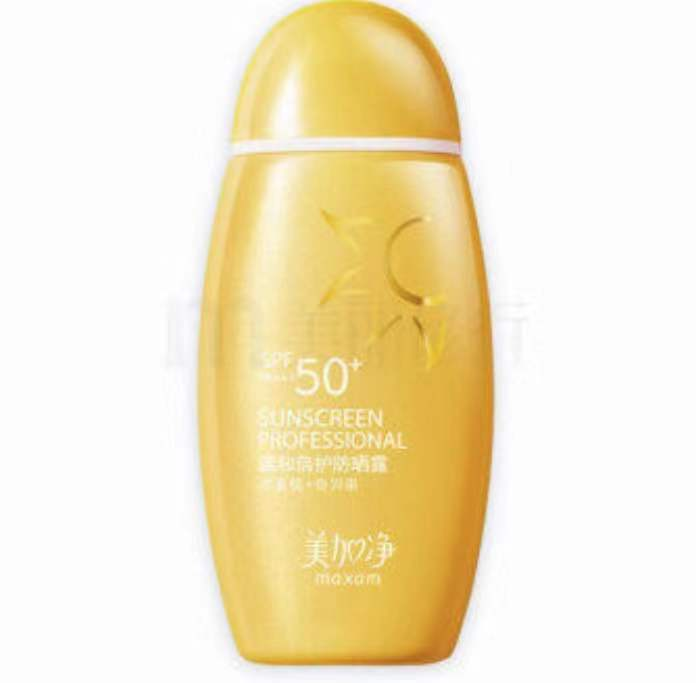cosmetic: (194, 1, 492, 668)
